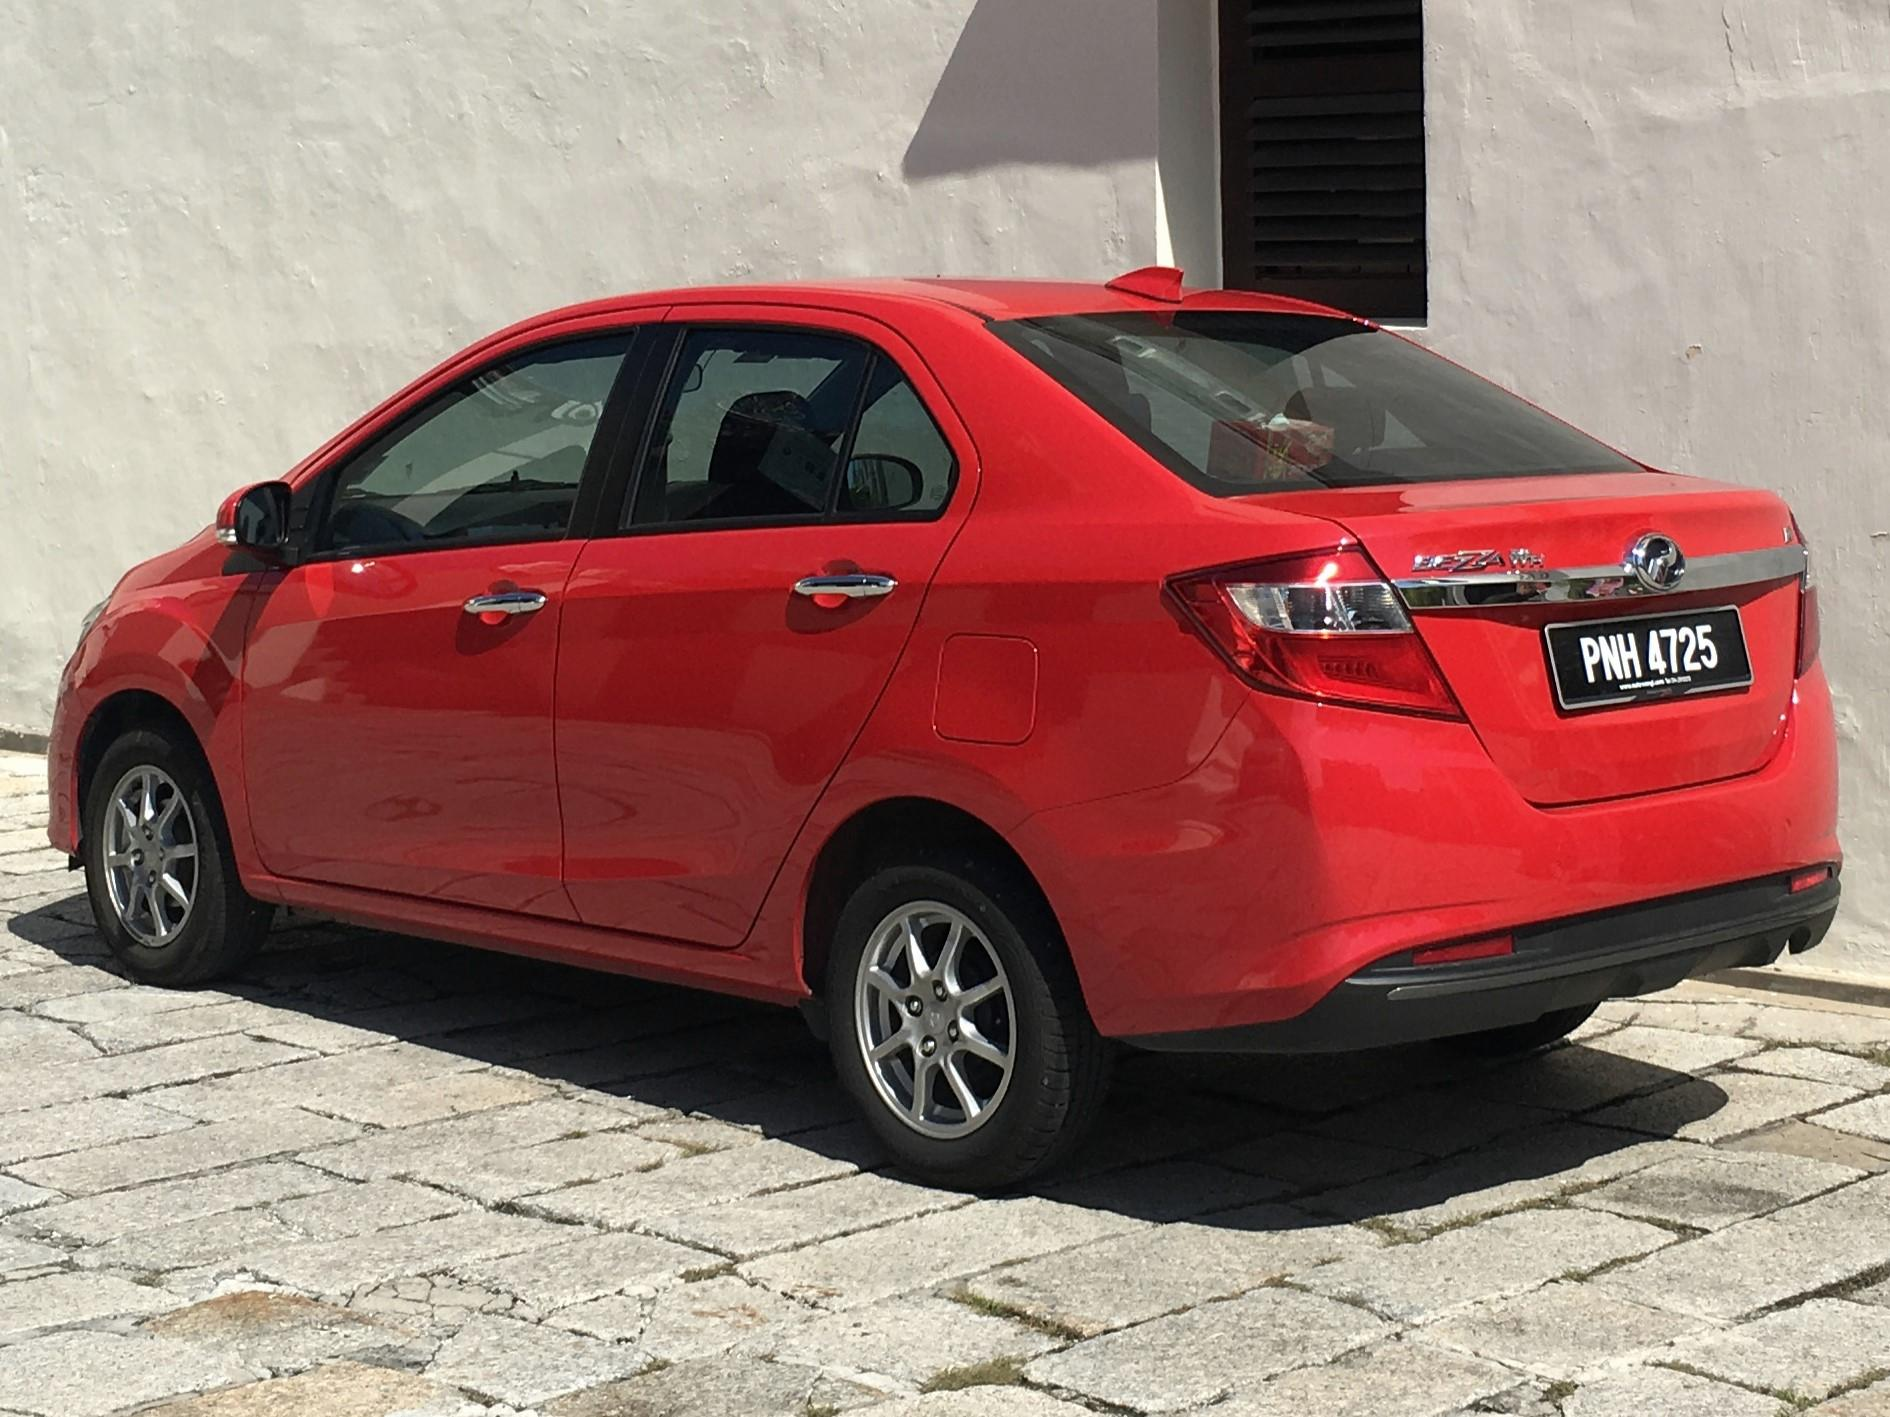License Plate: (1551, 607, 1754, 711)
